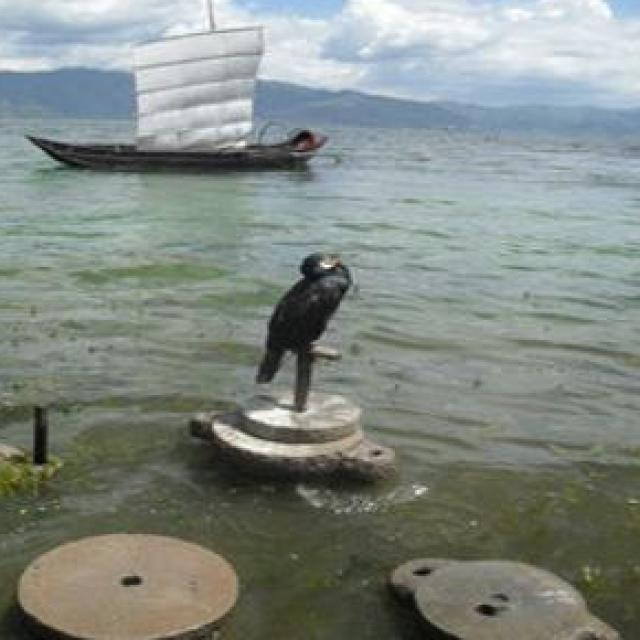sailboat: (28, 0, 333, 163)
